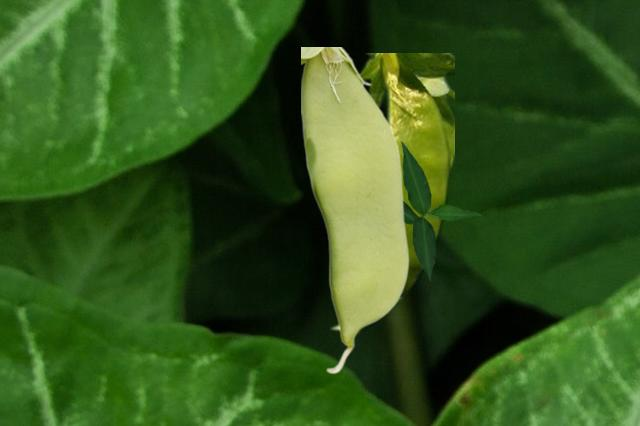pea: (301, 47, 408, 373), (330, 53, 453, 336)
